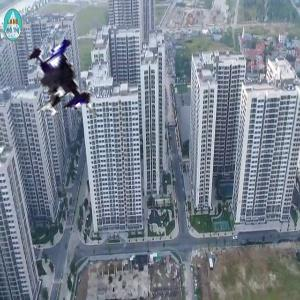drone: (10, 2, 141, 133)
